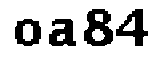4: (116, 8, 149, 49)
8: (83, 4, 115, 47)
a: (49, 13, 78, 51)
o: (11, 16, 43, 51)
